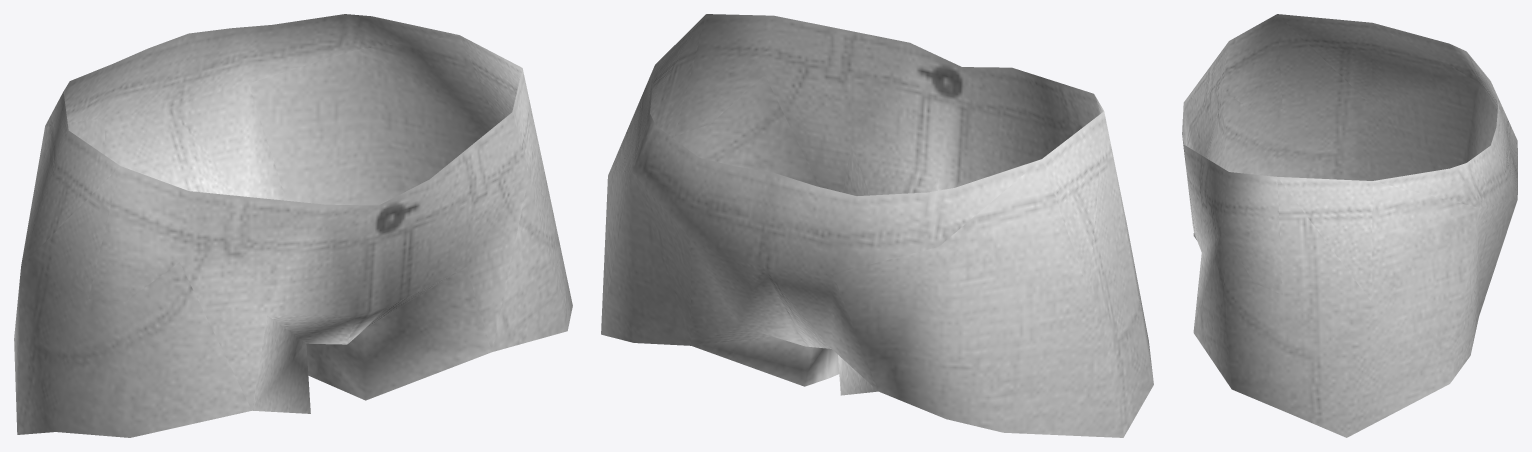
Rendered from ShortShorts.glb.
3 renders of one model, left to right at view 1: azimuth 30°, elevation 25°; view 2: azimuth 150°, elevation 25°; view 3: azimuth 270°, elevation 25°, orthographic. The views are drawn at different scales.
Parts seen in each view (by area): view 1: ShortShorts; view 2: ShortShorts; view 3: ShortShorts.
Part boxes in pixels (box(x1,y1,x2,y2)): ShortShorts: box(14, 14, 572, 437); ShortShorts: box(601, 14, 1153, 437); ShortShorts: box(1182, 14, 1517, 437).
Size of the model in its own units: 6.82 by 3.54 by 4.56.
Materials: 1 (1 with a texture image).
